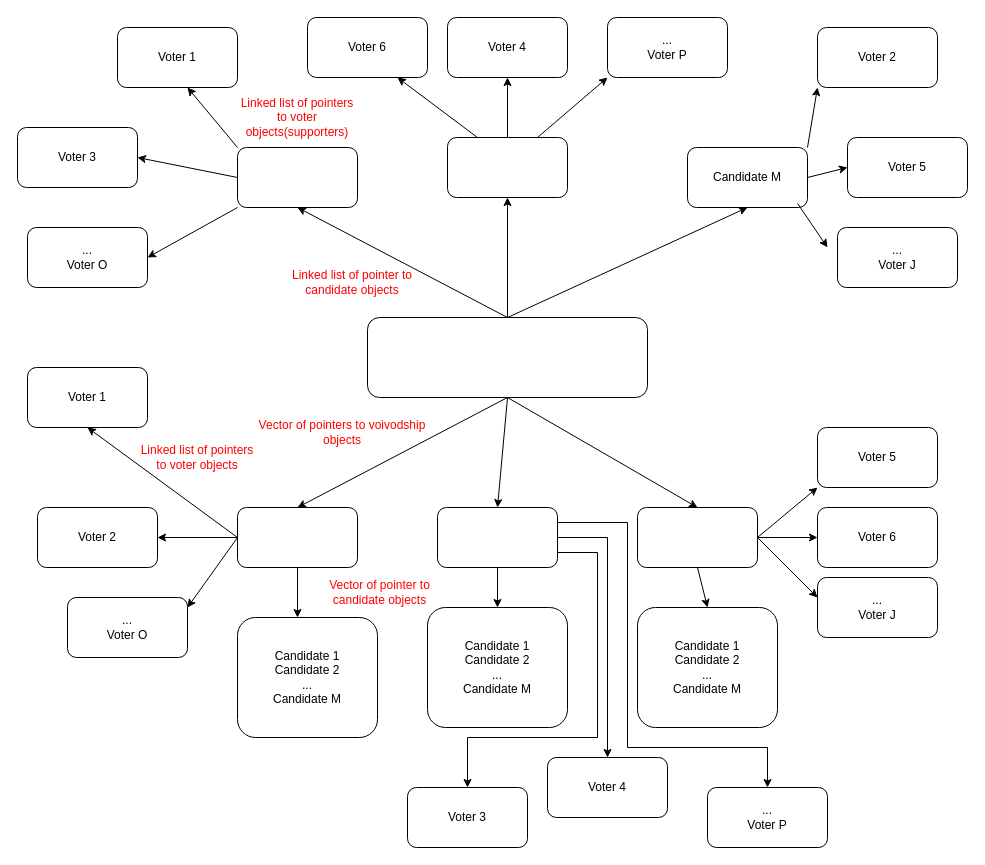
Image size: 985x865. Some labels were removed from this diagram. The shapes that lost their labels are listed below. From the top down, each one's centre as x and y in pixels, then its label:
At [297,177]: "Candidate 1".
At [507,167]: "Candidate 2".
At [507,357]: "Election".
At [297,537]: "Voivodship1".
At [497,537]: "Voivodship 2".
At [697,537]: "Voivodship N".
